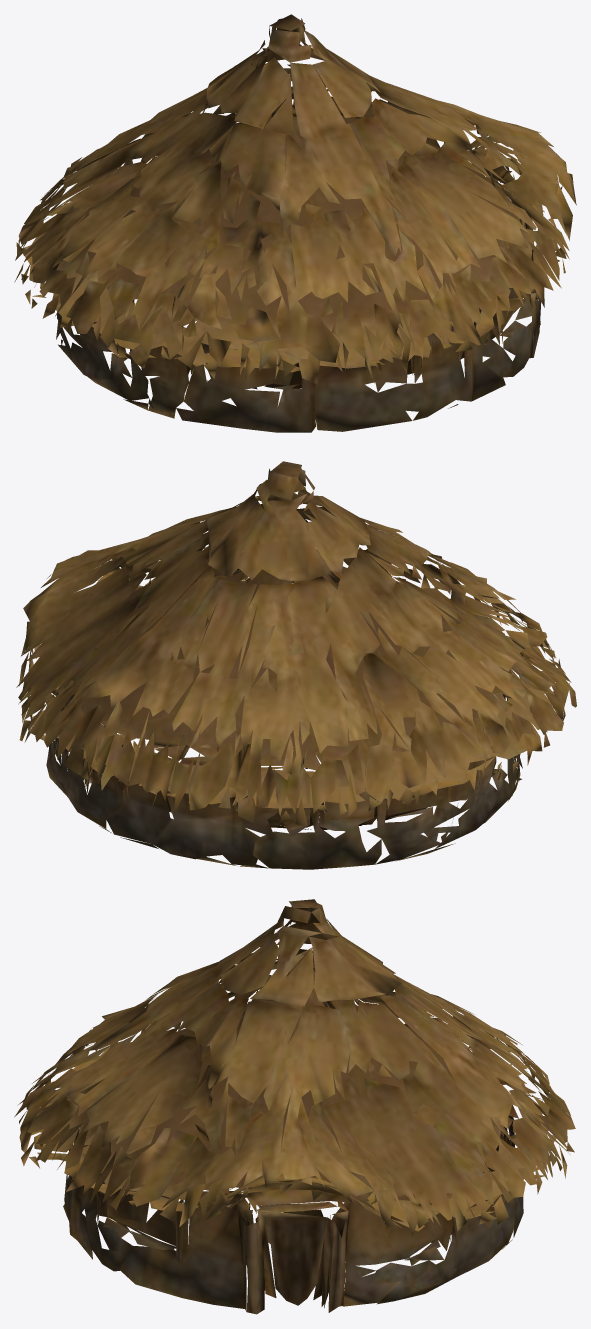
Rendered from house_far.glb.
3 views of the same model, one above another, from view 1: azimuth 30°, elevation 25°; view 2: azimuth 150°, elevation 25°; view 3: azimuth 270°, elevation 25° (orthographic).
Parts seen in each view (by area): view 1: model; view 2: model; view 3: model.
Part boxes in pixels (<box>): model: <box>14,14,576,432</box>; model: <box>16,461,576,869</box>; model: <box>14,899,575,1314</box>.
Bounding box in the file's own units: 0.9649 × 0.5847 × 0.9759.
1 material, 1 textured.
